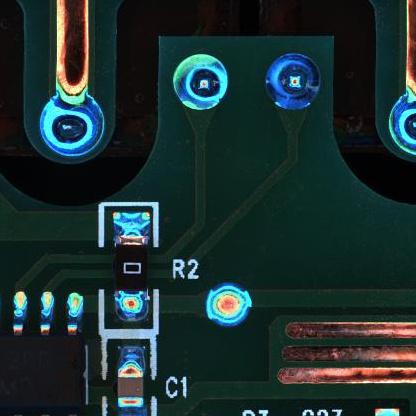spot: (39, 95, 103, 158), (264, 51, 323, 111), (171, 53, 229, 110), (207, 283, 251, 329)
